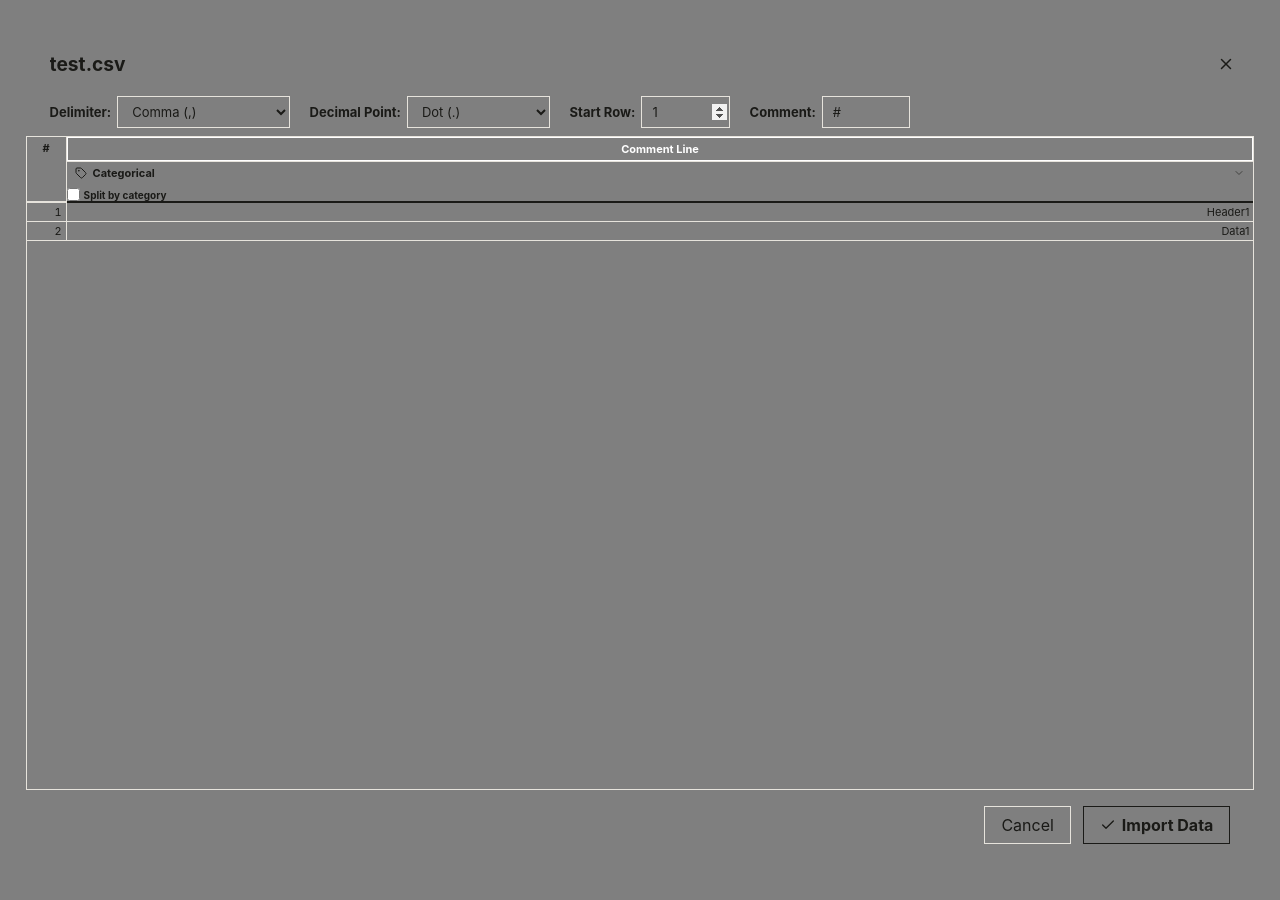
it: ImportSettingsDialog › updates headers and preview when startRow changes
Expected: the button "Comment Line" is shown, [67, 137, 1253, 161]
Note: Change startRow to 2
Replace the text in the number field labelled "Start Row:" with "2" at (686, 112), box [641, 96, 730, 128]
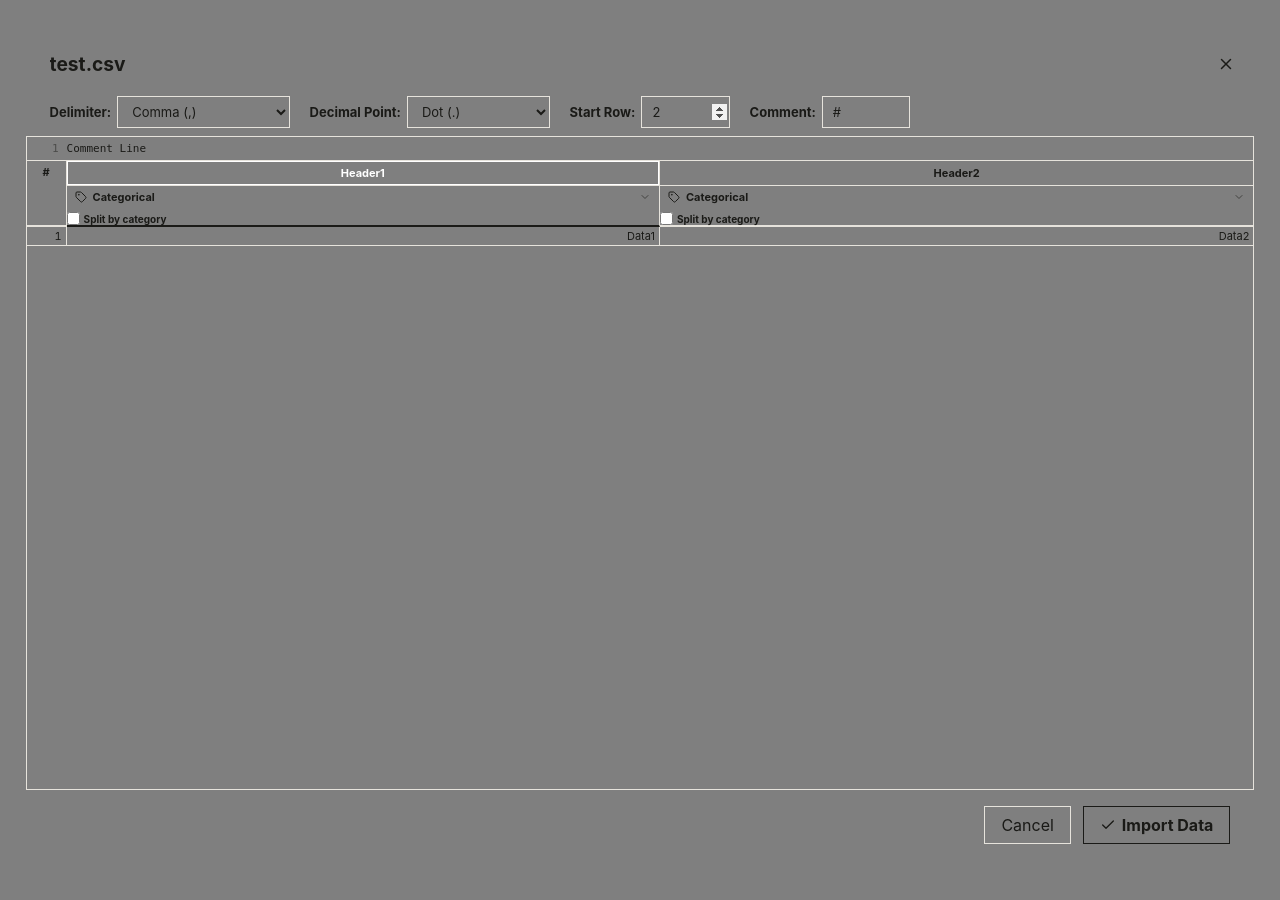
Expected: the button "Header1" is shown, [67, 161, 659, 185]
Expected: the button "Header2" is shown, [660, 161, 1253, 185]
Expected: the text "Data1" is shown, [67, 227, 660, 246]
